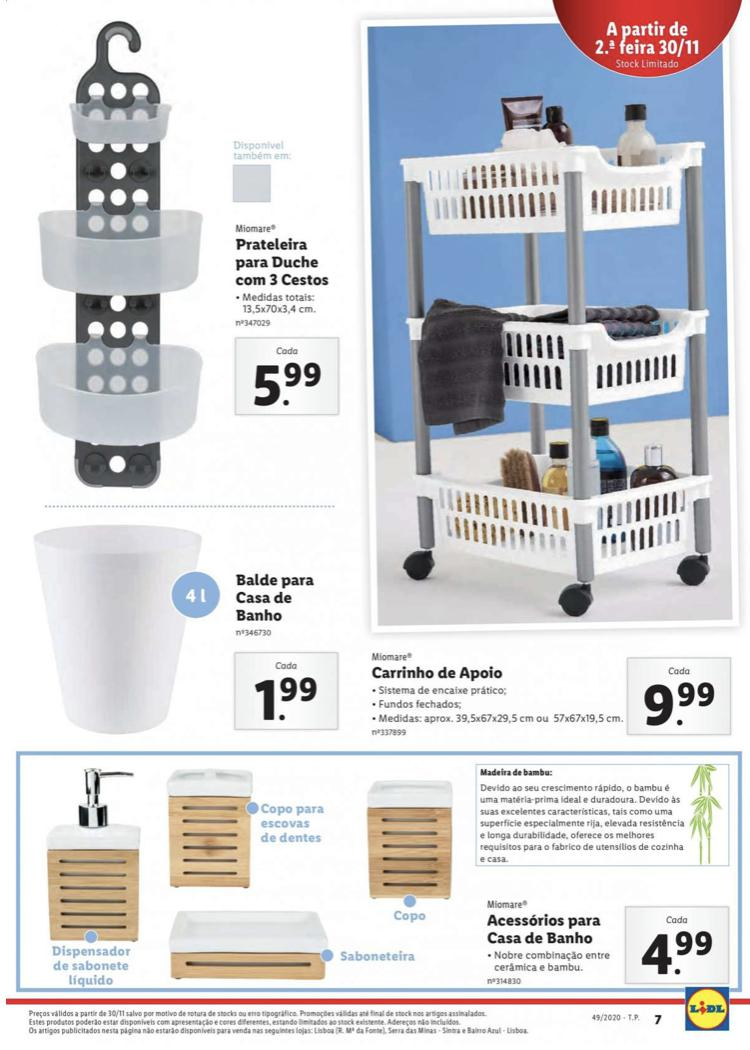name: (234, 233, 333, 290), (232, 566, 319, 626), (482, 911, 606, 947), (369, 661, 510, 685)
price: (633, 677, 721, 730), (637, 924, 716, 976), (247, 673, 323, 722), (249, 360, 328, 407)
product: (364, 20, 742, 744), (19, 756, 738, 990), (29, 13, 350, 496), (20, 518, 342, 751)
